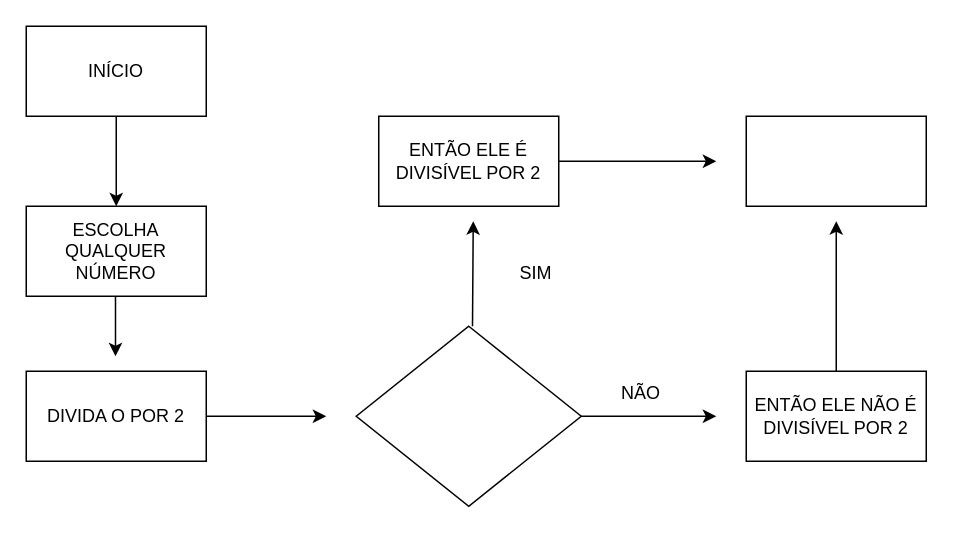
The diagram is 953 pixels wide and 533 high, and some of its shapes have lost their labels. The shapes that lost their labels are listed below. From the top down, each one's centre as x and y in pixels, then its label:
At (835,160): "FIM".
At (468,415): "O RESTO DA DIVISÃO DEU 0?".
